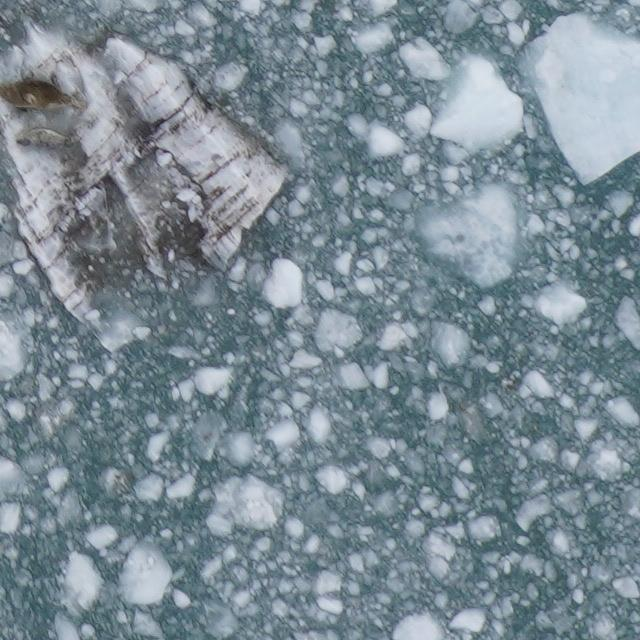seal: (0, 75, 93, 117), (9, 125, 89, 153)
